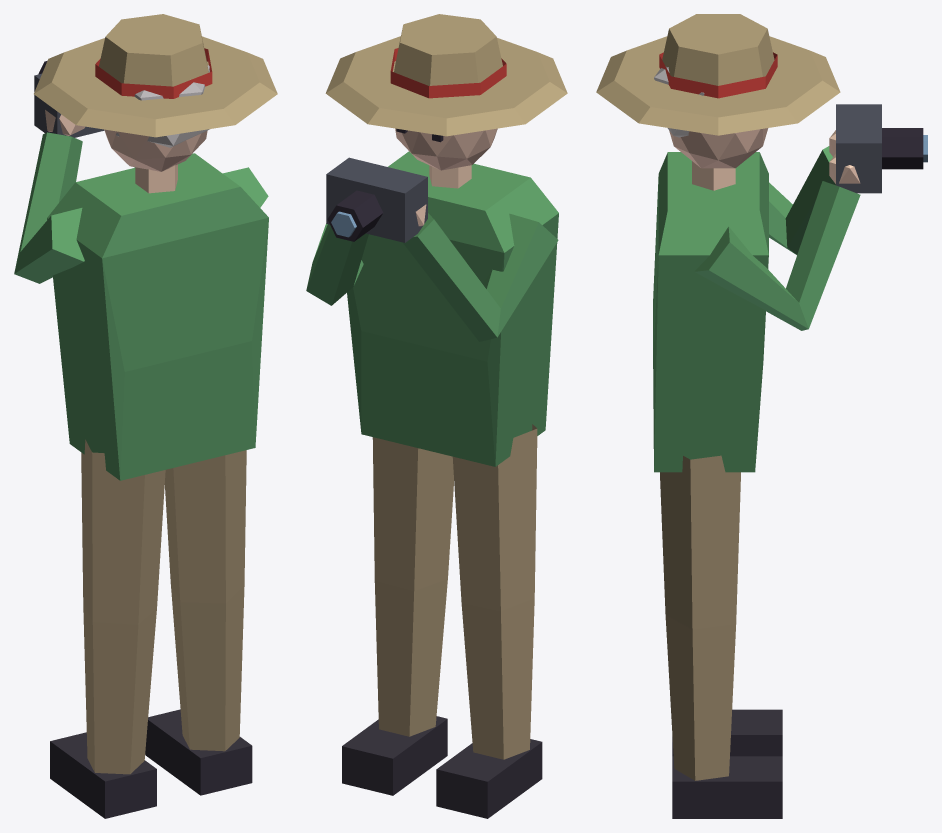
Rendered from spectator_d.glb.
3 renders of one model, left to right at view 1: azimuth 30°, elevation 25°; view 2: azimuth 150°, elevation 25°; view 3: azimuth 270°, elevation 25°, orthographic.
Parts seen in each view (by area): view 1: spectator_d; view 2: spectator_d; view 3: spectator_d.
Part boxes in pixels (x1=…): spectator_d: x1=14, y1=14, x2=277, y2=818; spectator_d: x1=306, y1=14, x2=567, y2=818; spectator_d: x1=596, y1=14, x2=927, y2=818.
Size of the model in its own units: 0.5435 by 1.8 by 0.7216.
